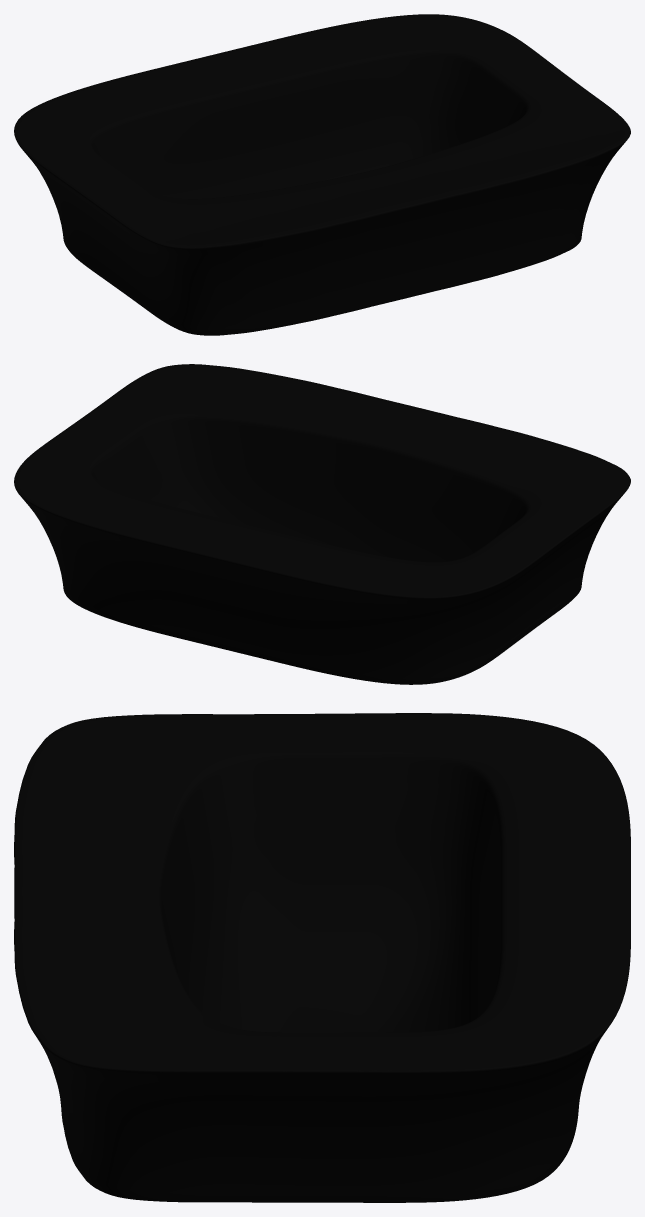
File: Sink_002.gltf
3 views of the same model, one above another, from view 1: azimuth 30°, elevation 25°; view 2: azimuth 150°, elevation 25°; view 3: azimuth 270°, elevation 25° (orthographic). The views are drawn at different scales.
Parts seen in each view (by area): view 1: Sink_002; view 2: Sink_002; view 3: Sink_002.
Part boxes in pixels (x1=…): Sink_002: x1=14, y1=14, x2=630, y2=335; Sink_002: x1=14, y1=364, x2=630, y2=684; Sink_002: x1=14, y1=713, x2=630, y2=1202.
Size of the model in its own units: 0.55 by 0.17 by 0.4.
1 material, 1 textured.
